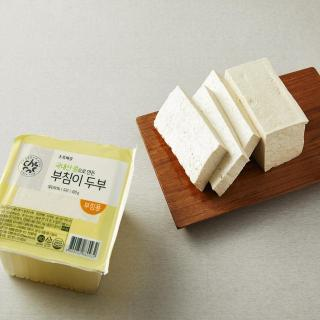Tahu: (129, 54, 315, 200)
